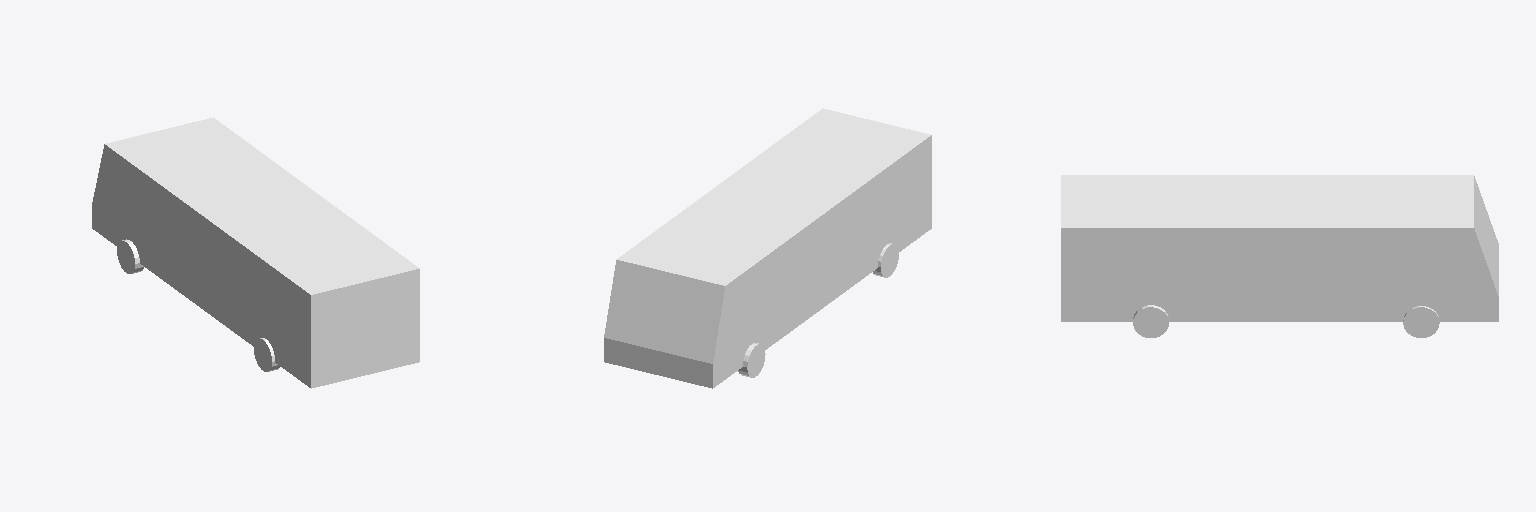
Rendered from bus.obj.
3 renders of one model, left to right at view 1: azimuth 30°, elevation 25°; view 2: azimuth 150°, elevation 25°; view 3: azimuth 270°, elevation 25°, orthographic.
Visible parts, largest first — view 1: Car_12 메시; view 2: Car_12 메시; view 3: Car_12 메시.
Boxes of the visible parts, x1=… form: Car_12 메시: x1=92, y1=117, x2=419, y2=388; Car_12 메시: x1=604, y1=108, x2=931, y2=388; Car_12 메시: x1=1061, y1=175, x2=1498, y2=337.
Bounding box in the file's own units: 4.08 × 3.57 × 13.06.